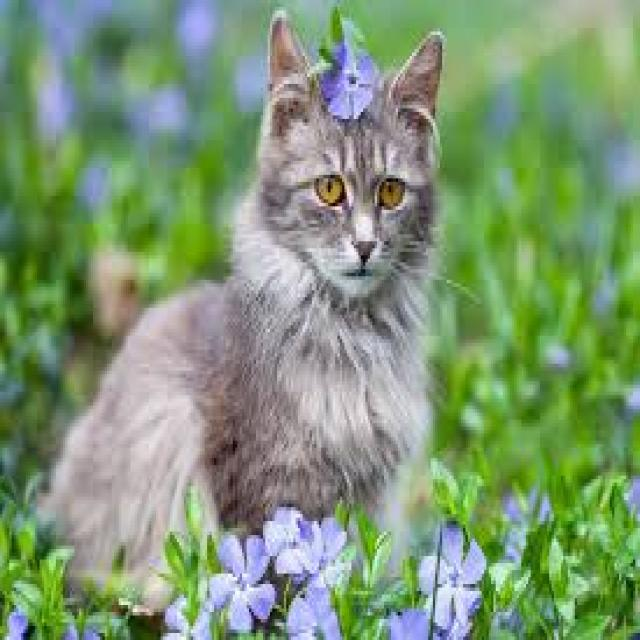Cat: (43, 11, 449, 601)
